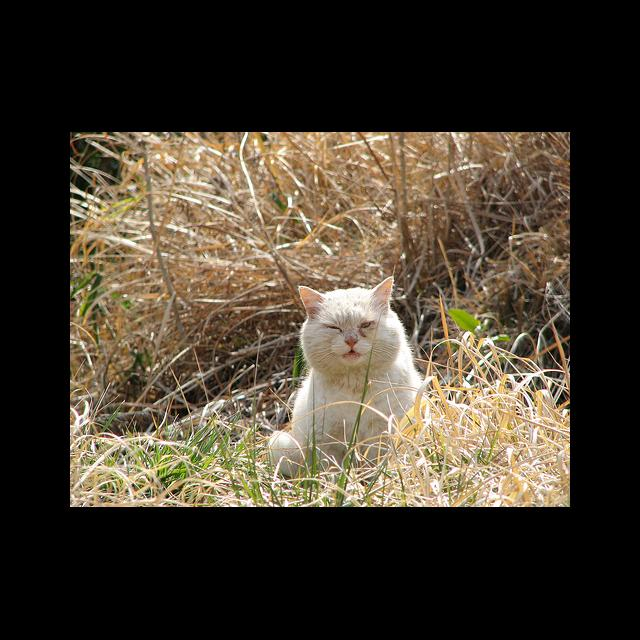animals: (300, 278, 391, 346)
